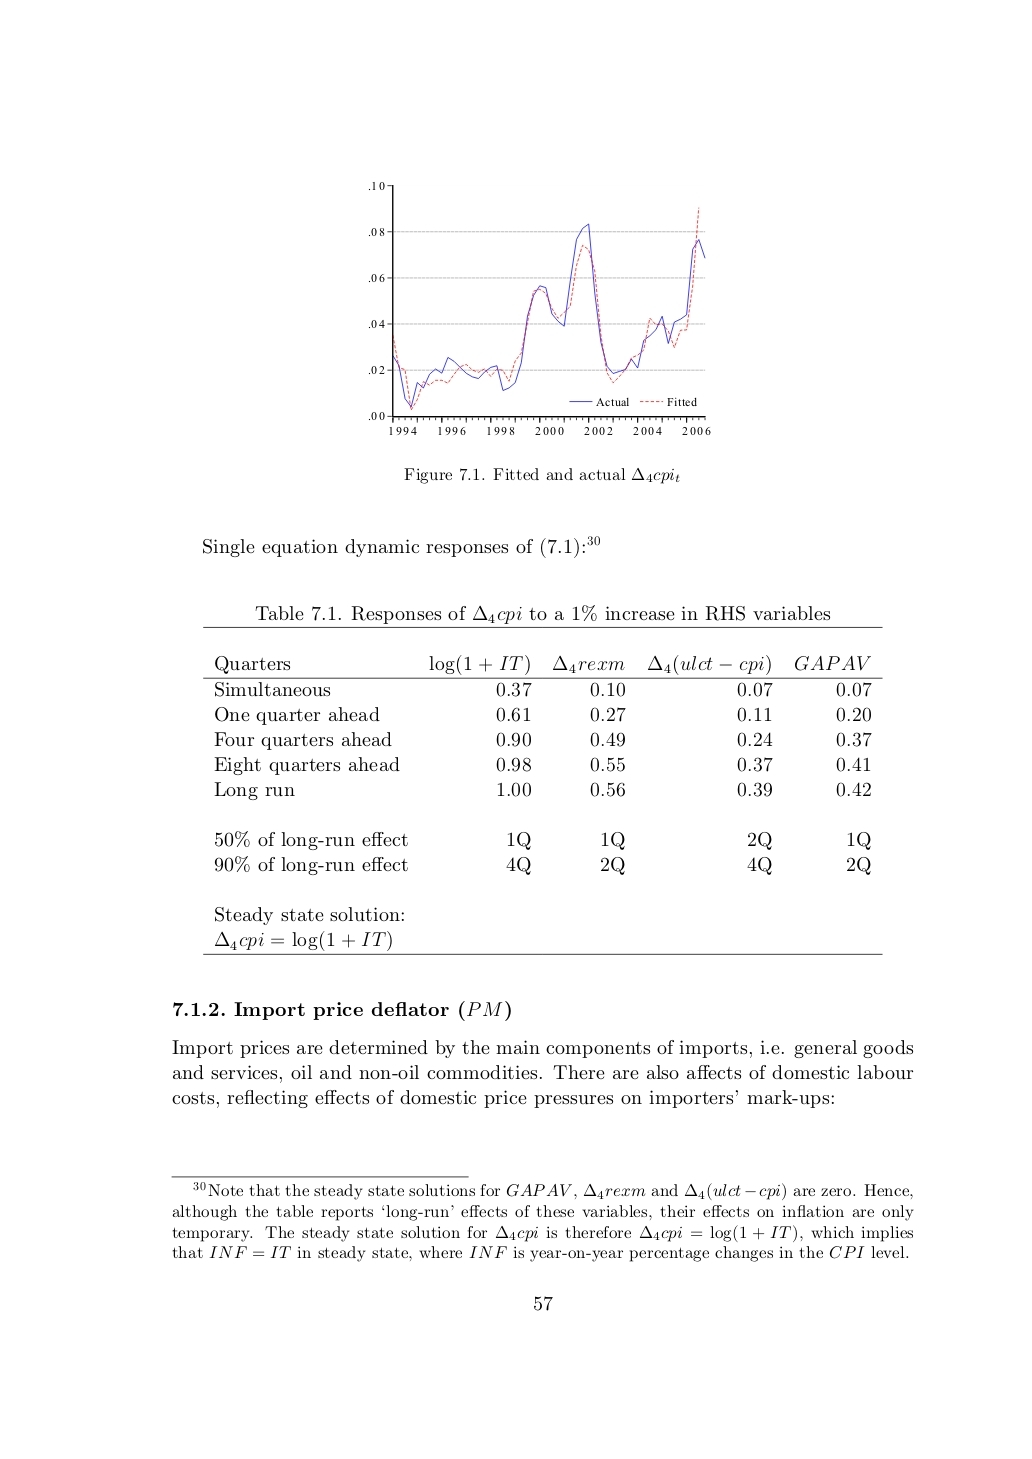Table: (203, 626, 882, 954)
figure: (369, 182, 710, 434)
